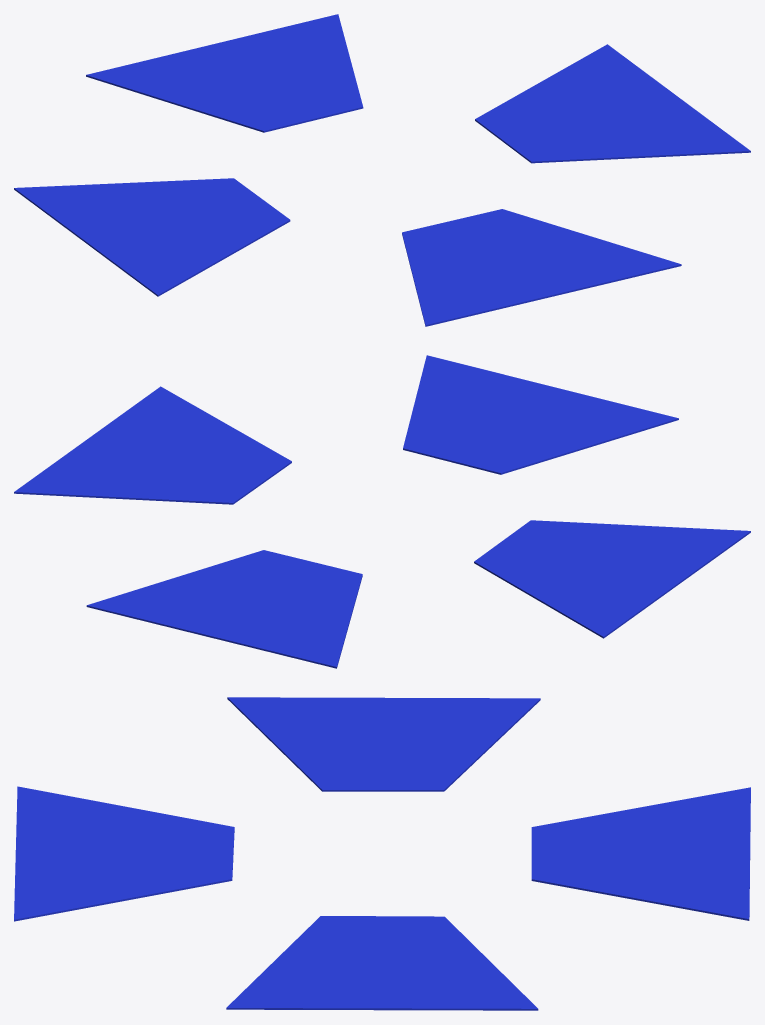
The model's file is zonaRuido.fbx.
3 views of the same model, one above another, from view 1: azimuth 30°, elevation 25°; view 2: azimuth 150°, elevation 25°; view 3: azimuth 270°, elevation 25° (orthographic). The views are drawn at different scales.
Parts seen in each view (by area): view 1: Curve.006, Curve.002, Curve.003, Curve.005; view 2: Curve.006, Curve.002, Curve.003, Curve.005; view 3: Curve.003, Curve.005, Curve.006, Curve.002.
Boxes of the visible parts, x1,y1,x2,y2 form: Curve.006: (402,209,681,326); Curve.002: (86,14,363,132); Curve.003: (475,44,750,163); Curve.005: (14,178,290,296); Curve.006: (403,355,678,474); Curve.002: (86,550,362,668); Curve.003: (14,386,291,504); Curve.005: (474,520,750,638); Curve.003: (226,916,538,1010); Curve.005: (227,697,540,791); Curve.006: (14,786,234,921); Curve.002: (531,787,750,920).
Size of the model in its own units: 10400 by 27.77 by 10397.
